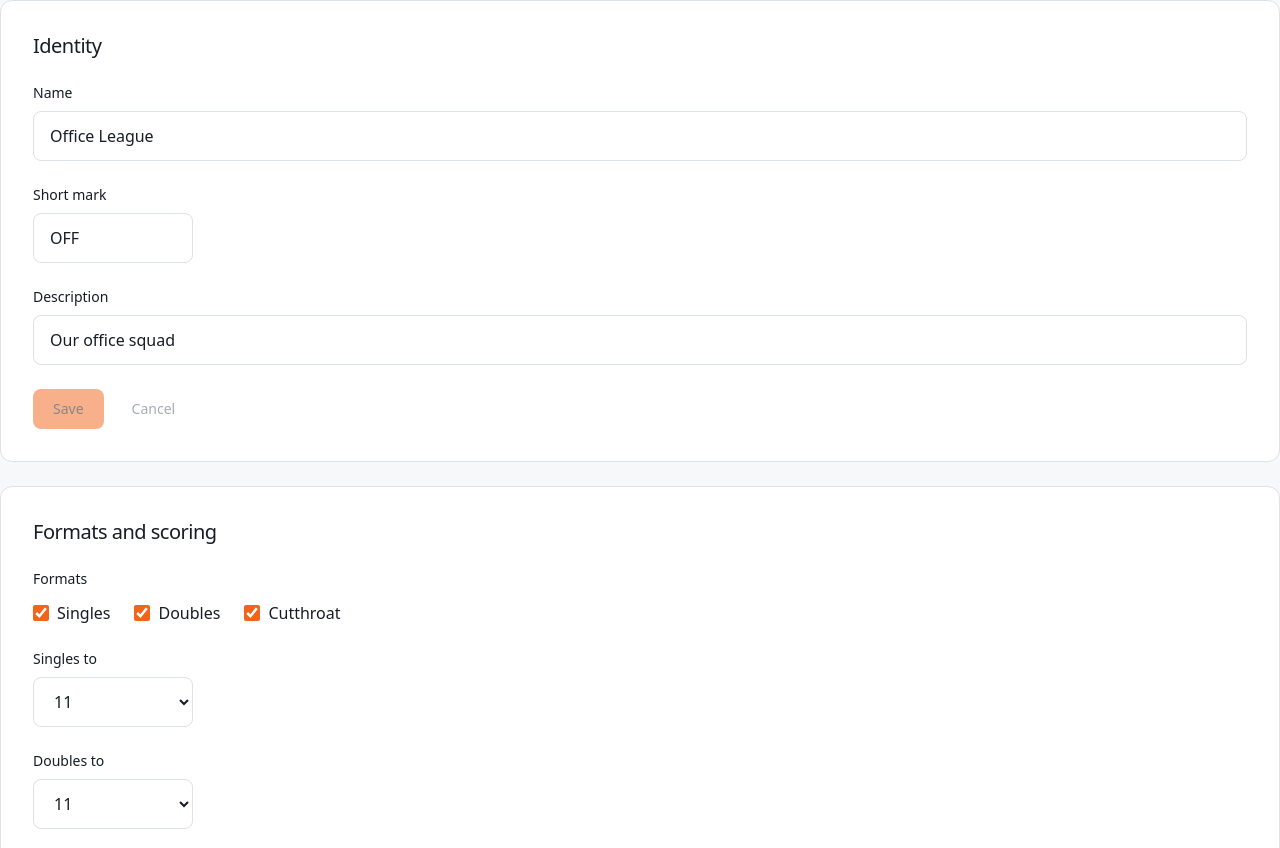
it: a refusal the page words itself › keeps its own rate-limit line rather than the one the server sent
Replace the text in the field with id "setting-name" with "Renamed": (640, 136) left=33, top=111, right=1247, bottom=161
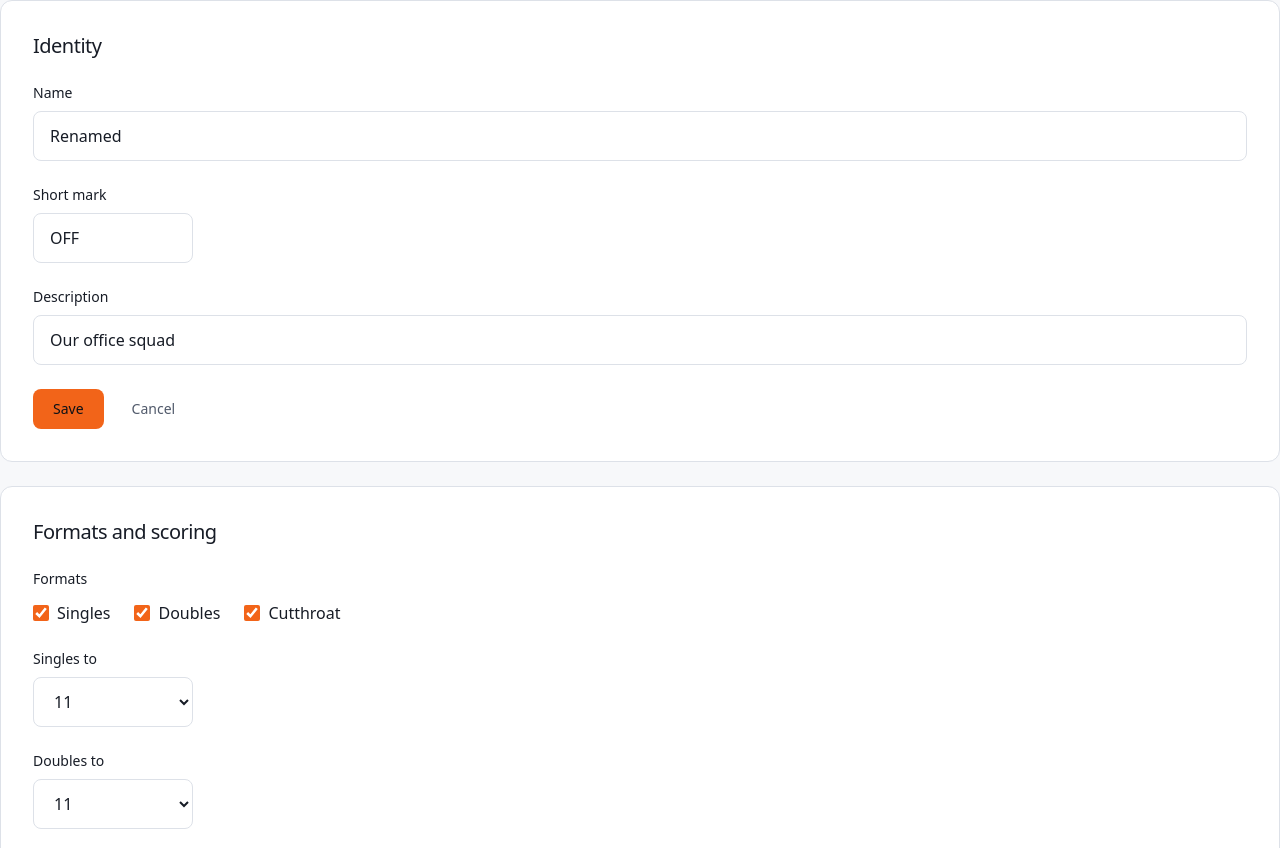
Click the button "Save": (68, 409) left=33, top=389, right=104, bottom=429
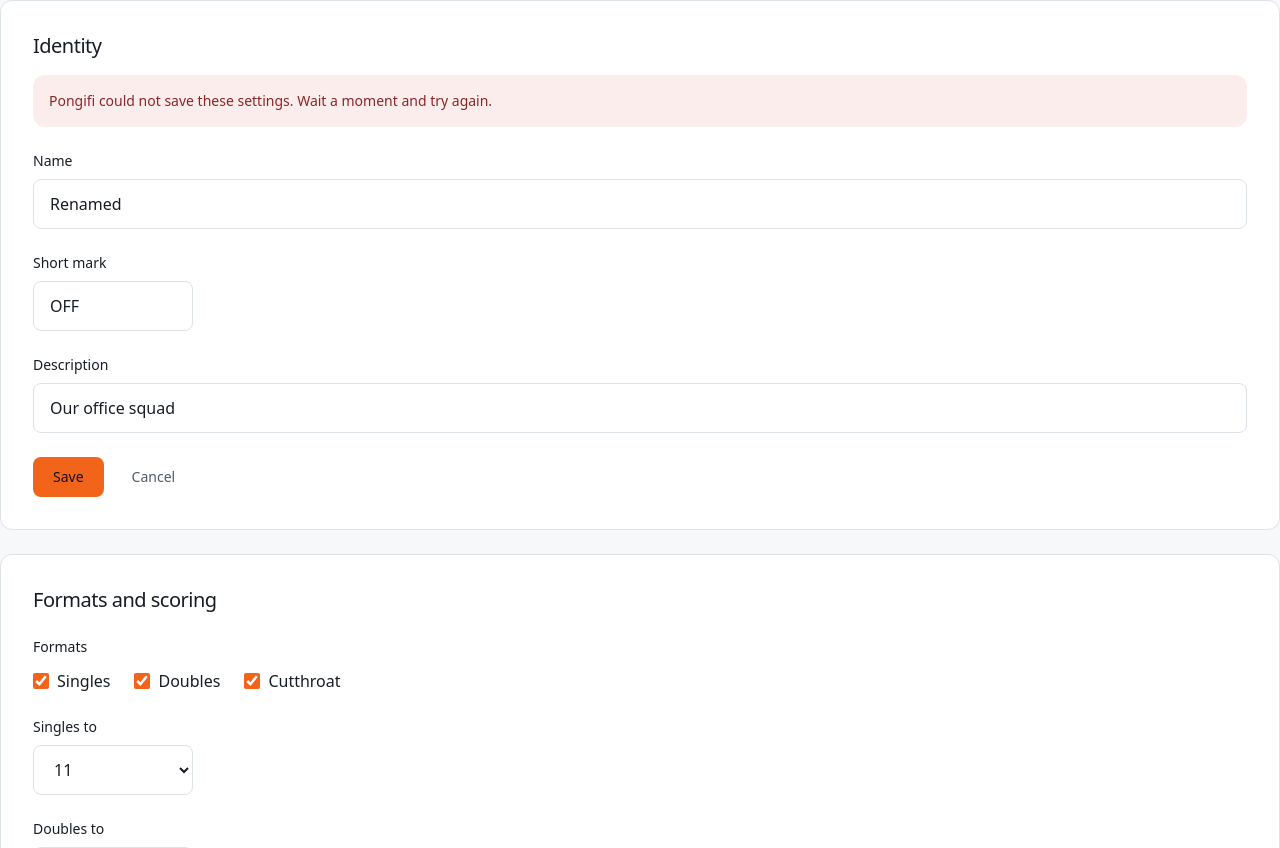
Result: the element that starts with "Identity" shows "Pongifi could not save these settings. Wait a moment and try again." at left=49, top=91, right=492, bottom=110
